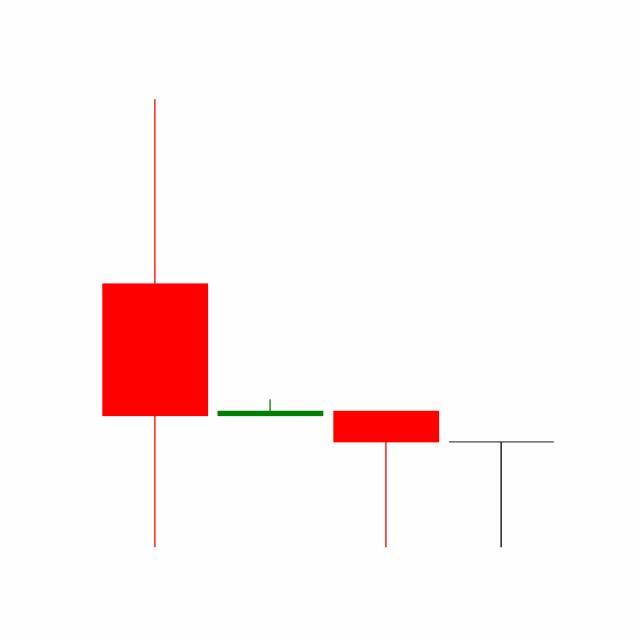Hammer: (329, 410, 445, 550)
